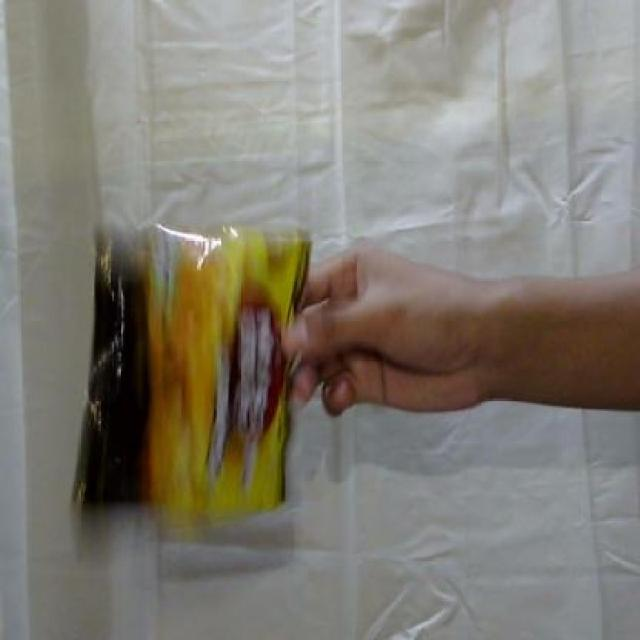Plastic: (62, 204, 317, 550)
